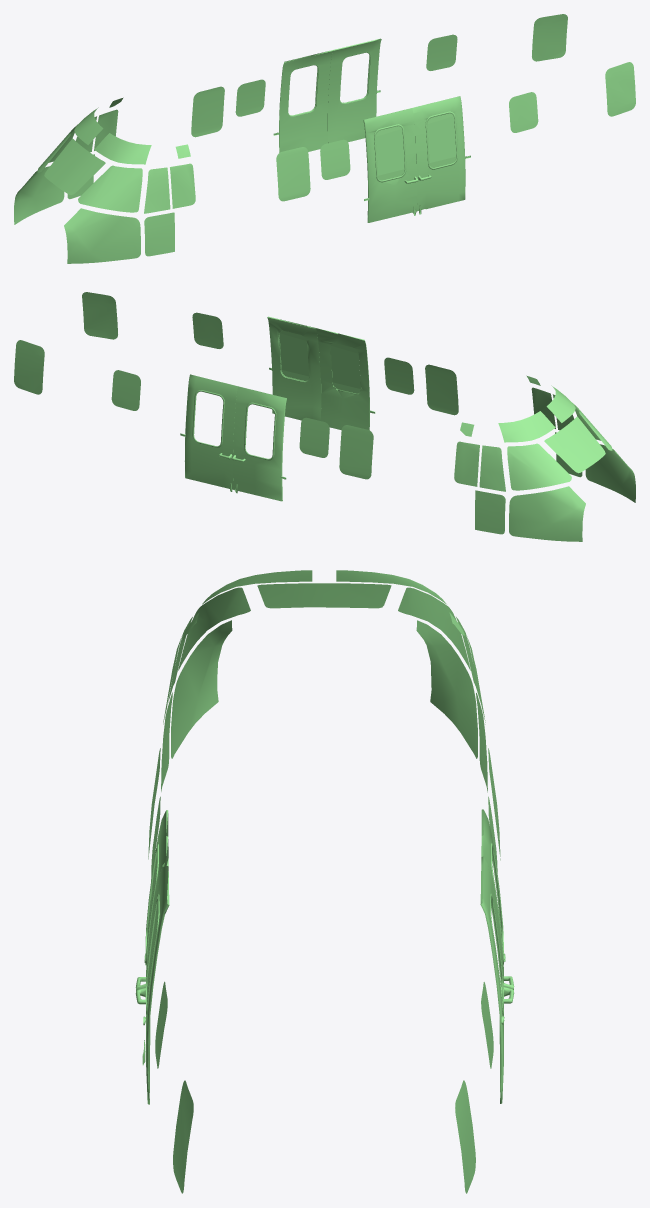
The model's file is P_SM_PortesVitres_Helicoptere_001.FBX.
3 renders of one model, top to bottom at view 1: azimuth 30°, elevation 25°; view 2: azimuth 150°, elevation 25°; view 3: azimuth 270°, elevation 25°, orthographic. The views are drawn at different scales.
Visible parts, largest first — view 1: P_SM_Vitres_Helicoptere_001, P_SM_Portes_Helicoptere_001, P_SM_Portes_Helicoptere_002, P_SM_Portes_Helicoptere_004, P_SM_Portes_Helicoptere_003, P_SM_Vitres_Porte_Helico_001, P_SM_Vitres_Porte_Helico_002; view 2: P_SM_Vitres_Helicoptere_001, P_SM_Portes_Helicoptere_004, P_SM_Portes_Helicoptere_003, P_SM_Portes_Helicoptere_001, P_SM_Portes_Helicoptere_002, P_SM_Vitres_Porte_Helico_001, P_SM_Vitres_Porte_Helico_002; view 3: P_SM_Vitres_Helicoptere_001, P_SM_Portes_Helicoptere_003, P_SM_Portes_Helicoptere_002, P_SM_Portes_Helicoptere_001, P_SM_Portes_Helicoptere_004.
Boxes of the visible parts, left/top/right/bottom form: P_SM_Vitres_Helicoptere_001: left=14, top=14, right=635, bottom=263; P_SM_Portes_Helicoptere_001: left=363, top=108, right=418, bottom=222; P_SM_Portes_Helicoptere_002: left=412, top=96, right=470, bottom=214; P_SM_Portes_Helicoptere_004: left=273, top=50, right=332, bottom=152; P_SM_Portes_Helicoptere_003: left=327, top=38, right=381, bottom=143; P_SM_Vitres_Porte_Helico_001: left=375, top=126, right=404, bottom=180; P_SM_Vitres_Porte_Helico_002: left=427, top=113, right=456, bottom=167; P_SM_Vitres_Helicoptere_001: left=14, top=292, right=635, bottom=541; P_SM_Portes_Helicoptere_004: left=232, top=386, right=286, bottom=501; P_SM_Portes_Helicoptere_003: left=180, top=374, right=237, bottom=491; P_SM_Portes_Helicoptere_001: left=316, top=328, right=375, bottom=430; P_SM_Portes_Helicoptere_002: left=267, top=316, right=321, bottom=420; P_SM_Vitres_Porte_Helico_001: left=330, top=343, right=360, bottom=393; P_SM_Vitres_Porte_Helico_002: left=279, top=330, right=308, bottom=380; P_SM_Vitres_Helicoptere_001: left=148, top=570, right=500, bottom=1193; P_SM_Portes_Helicoptere_003: left=480, top=856, right=514, bottom=1103; P_SM_Portes_Helicoptere_002: left=135, top=857, right=169, bottom=1104; P_SM_Portes_Helicoptere_001: left=135, top=810, right=168, bottom=1057; P_SM_Portes_Helicoptere_004: left=481, top=809, right=514, bottom=1050.
Size of the model in its own units: 916 by 182 by 268.
